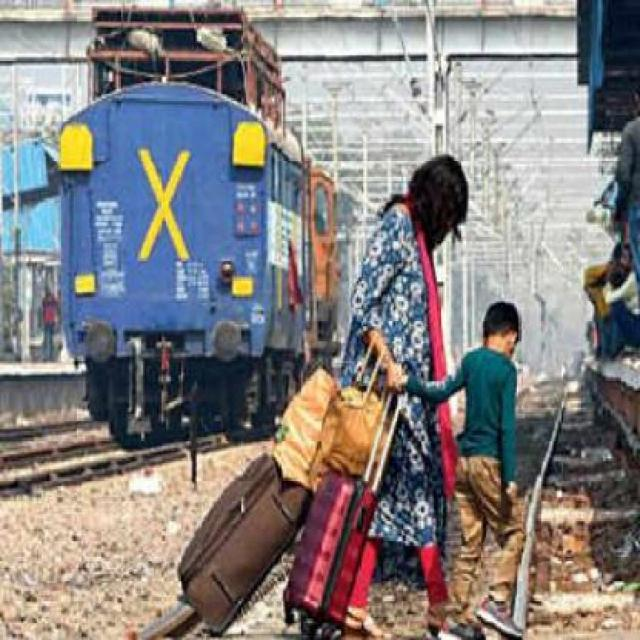Manusia: (342, 150, 476, 638), (455, 298, 533, 638)
